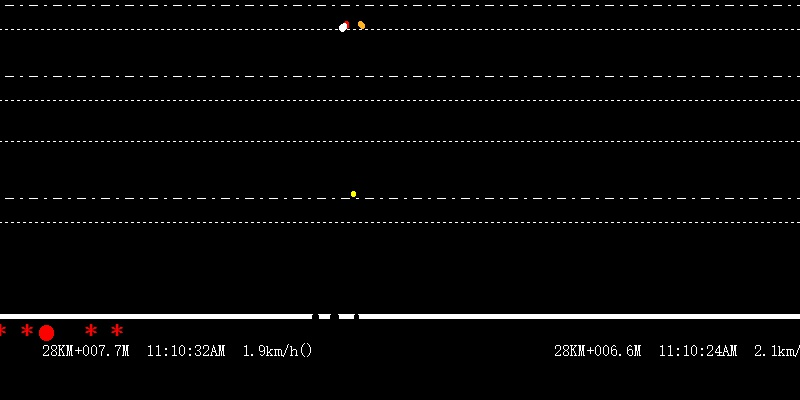circle: (38, 323, 54, 342)
face_1: (356, 17, 367, 34)
face_s: (338, 14, 350, 35)
star: (110, 320, 127, 338), (82, 321, 101, 336), (20, 321, 34, 339)
